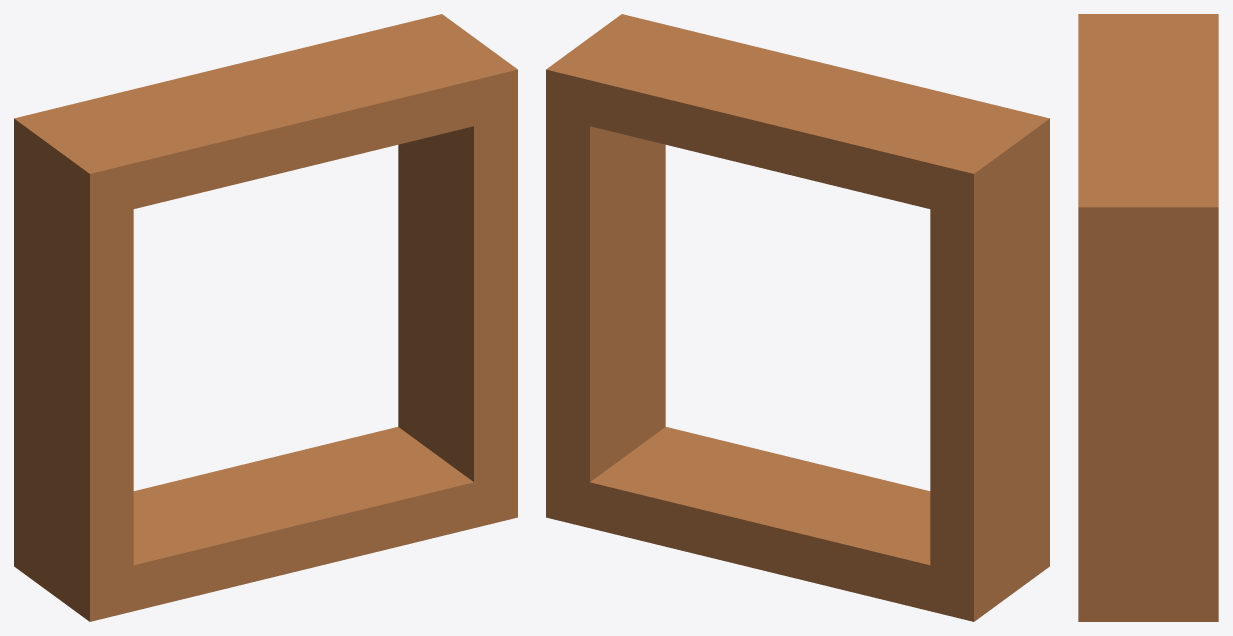
Rendered from Garnet-Jaali.gltf.
3 renders of one model, left to right at view 1: azimuth 30°, elevation 25°; view 2: azimuth 150°, elevation 25°; view 3: azimuth 270°, elevation 25°, orthographic. The views are drawn at different scales.
Parts seen in each view (by area): view 1: 2873; view 2: 2873; view 3: 2873.
Part boxes in pixels (<box>): 2873: <box>14,14,517,621</box>; 2873: <box>546,14,1049,621</box>; 2873: <box>1078,14,1218,621</box>.
Size of the model in its own units: 195 by 195 by 60.
